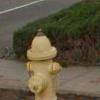Hydrant: (21, 20, 66, 100)
